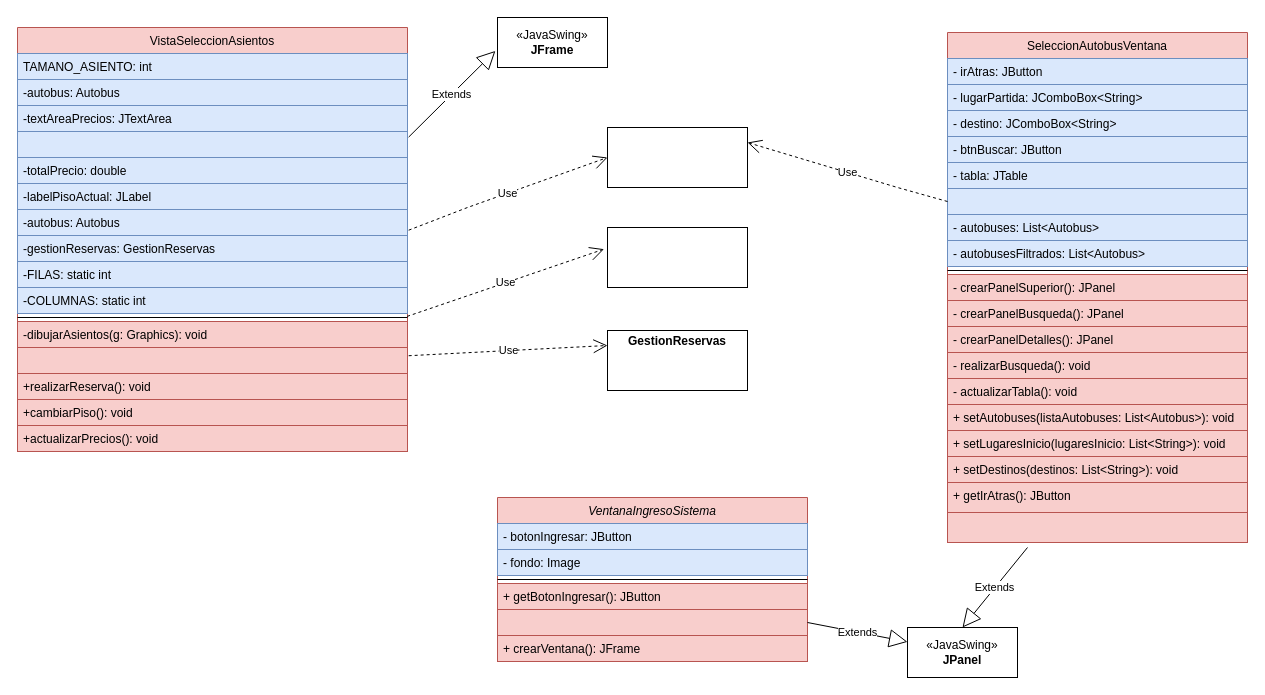
Some shapes in this 1265 by 695 pixel diagram are drawn without their labels. Here are the shapes that lost their labels. From the top down, the centre of each, then its label:
At (x=212, y=144): "-pisoActual: int".
At (x=677, y=157): "Autobus".
At (x=1097, y=201): "- tablaSeleccionAutobus: DefaultTableModel".
At (x=677, y=257): "Asiento".
At (x=212, y=360): "+manejarSeleccionAsientos(x: int, y: int, panelAsientos: JPanel): void".
At (x=1097, y=527): "- obtenerAutobusPorId(id: String): Autobus".
At (x=652, y=622): "# paintComponent(g: Graphics): void".
